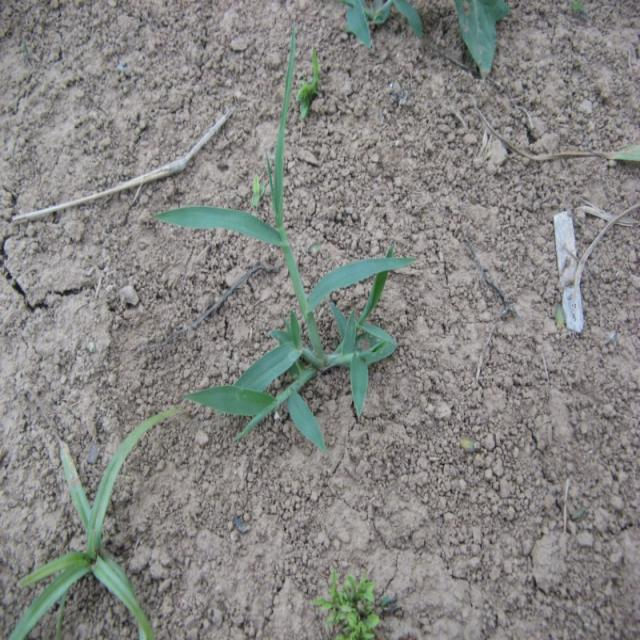bg: (156, 55, 416, 449)
